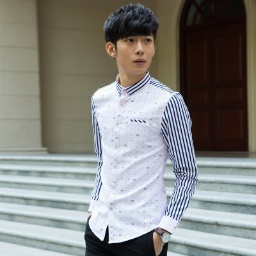face: (102, 3, 159, 79)
